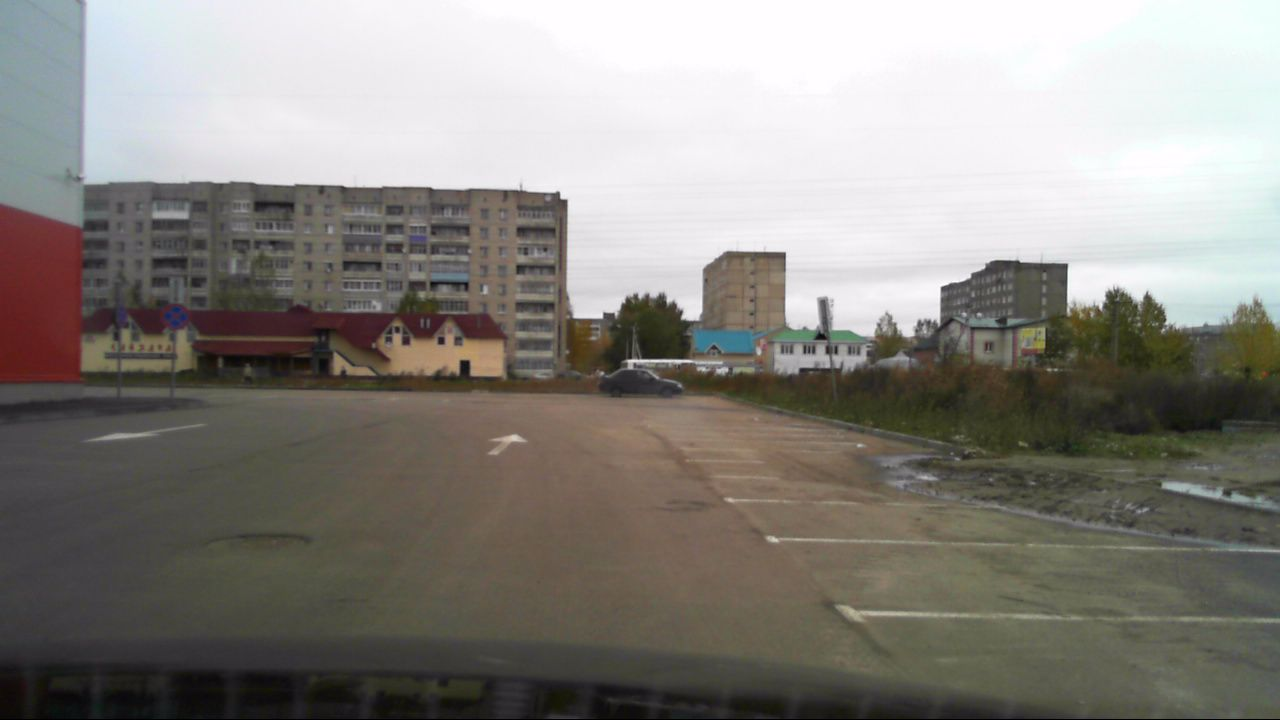No Parking: (159, 303, 192, 333)
